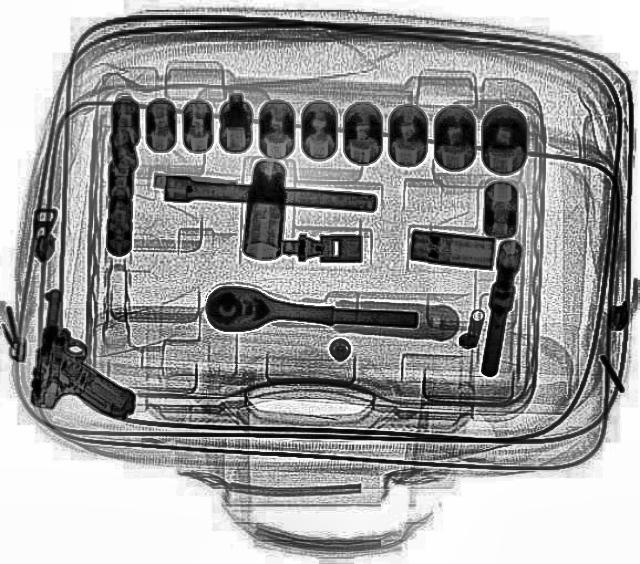Gun: (25, 287, 147, 421)
